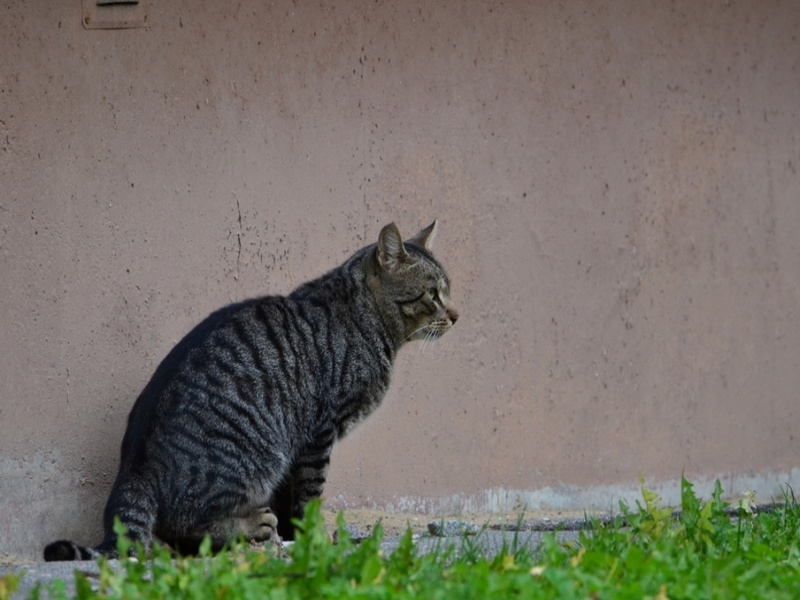cat: (32, 218, 458, 562)
